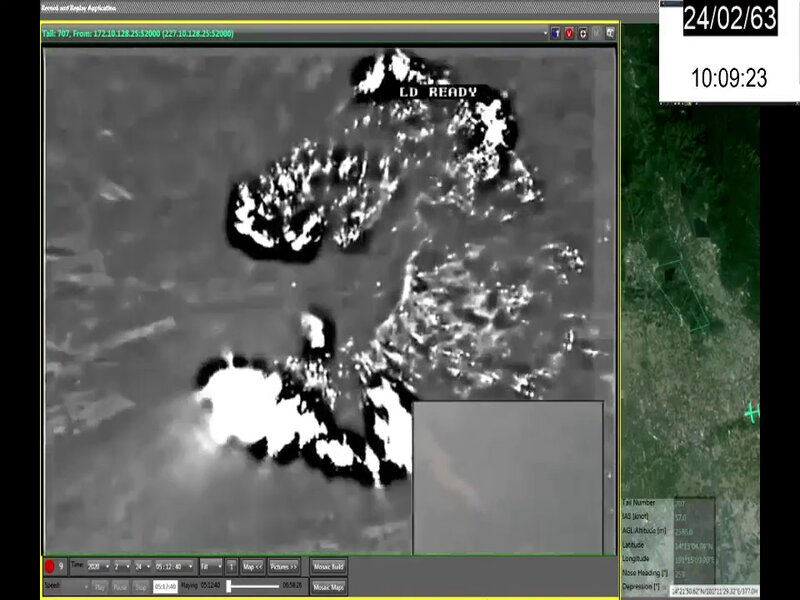Fire: (191, 50, 411, 490)
